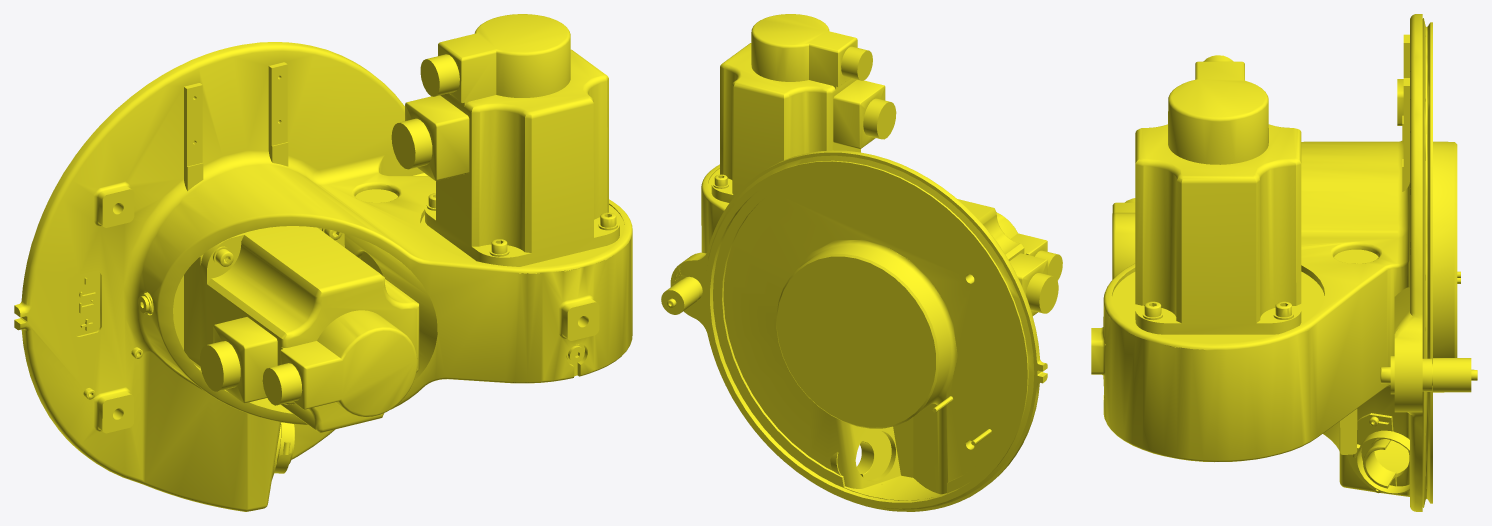
3 renders of one model, left to right at view 1: azimuth 30°, elevation 25°; view 2: azimuth 150°, elevation 25°; view 3: azimuth 270°, elevation 25°, orthographic. The views are drawn at different scales.
Parts seen in each view (by area): view 1: /Link1/Link1_003-mesh/0; view 2: /Link1/Link1_003-mesh/0; view 3: /Link1/Link1_003-mesh/0.
Part boxes in pixels (x1,y1,x2,y2): /Link1/Link1_003-mesh/0: [14, 14, 632, 511]; /Link1/Link1_003-mesh/0: [661, 14, 1062, 511]; /Link1/Link1_003-mesh/0: [1091, 14, 1477, 511].
Bounding box in the file's own units: 0.4765 × 0.4245 × 0.3025.
